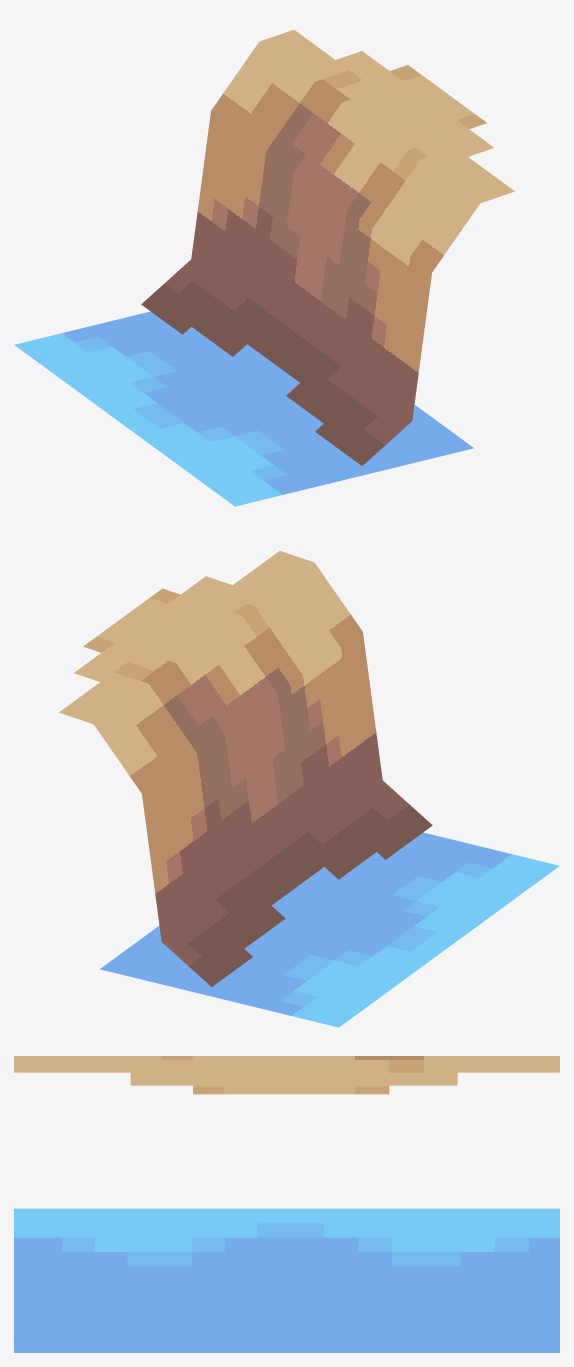
3 views of the same model, one above another, from view 1: azimuth 30°, elevation 25°; view 2: azimuth 150°, elevation 25°; view 3: azimuth 270°, elevation 25° (orthographic). The views are drawn at different scales.
Bounding box in the file's own units: 0.8486 × 0.627 × 1.
2 materials, 2 textured.
